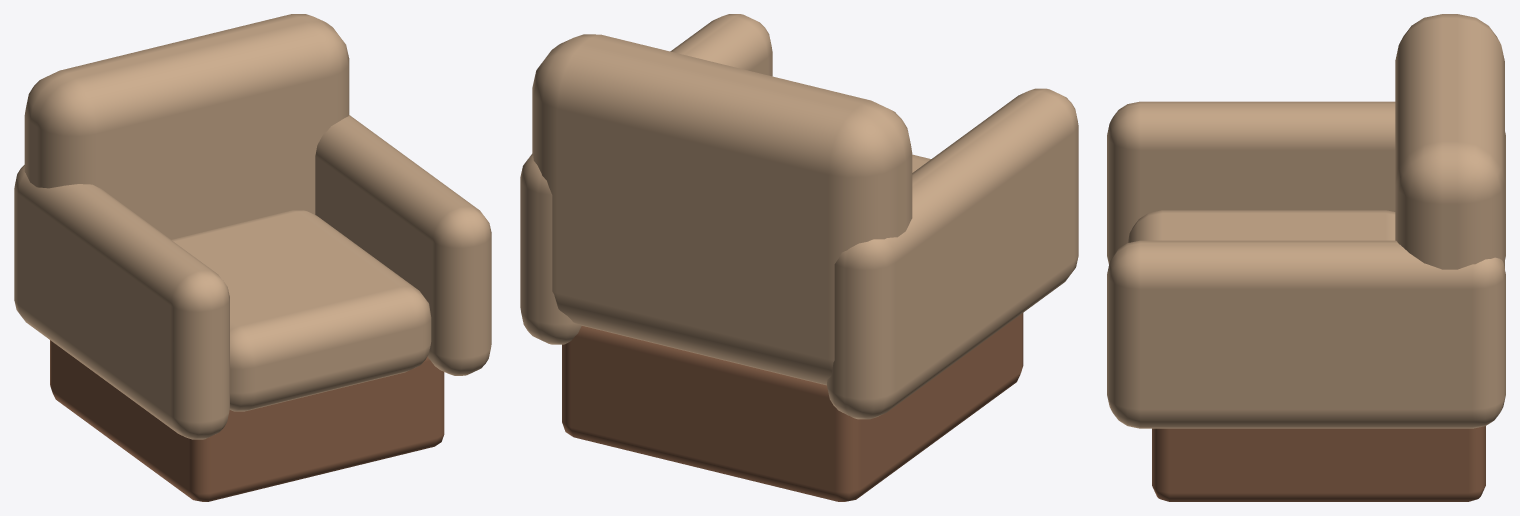
The model's file is kit_armchair_v1.glb.
3 views of the same model, side by side, from view 1: azimuth 30°, elevation 25°; view 2: azimuth 150°, elevation 25°; view 3: azimuth 270°, elevation 25° (orthographic). The views are drawn at different scales.
Parts seen in each view (by area): view 1: body; view 2: body; view 3: body.
Boxes of the visible parts, <box> form: body: <box>14,14,491,501</box>; body: <box>520,14,1078,501</box>; body: <box>1107,14,1505,501</box>.
Size of the model in its own units: 0.8 by 0.8 by 0.8.
